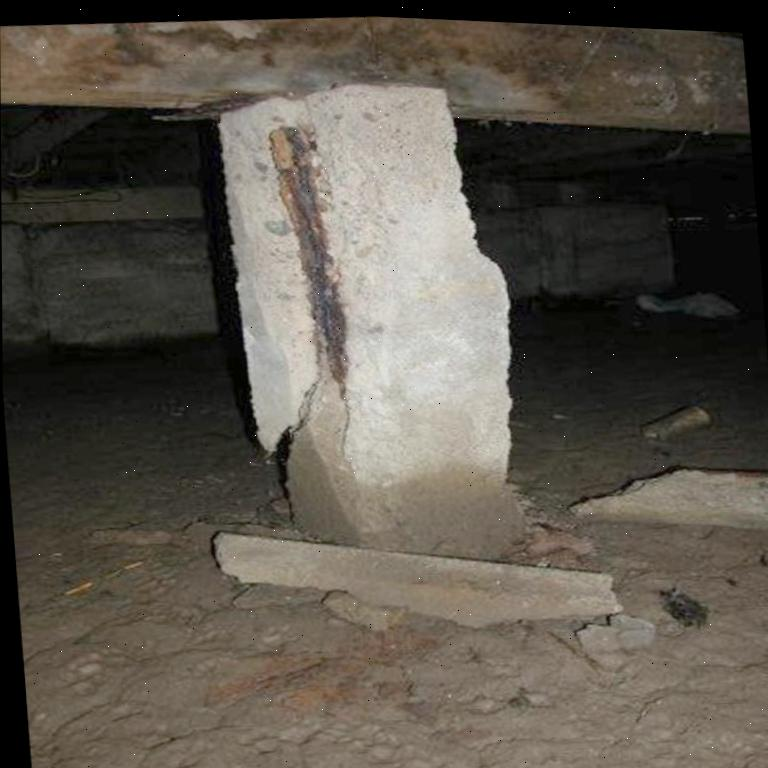exposed_rebar: (269, 127, 348, 394)
